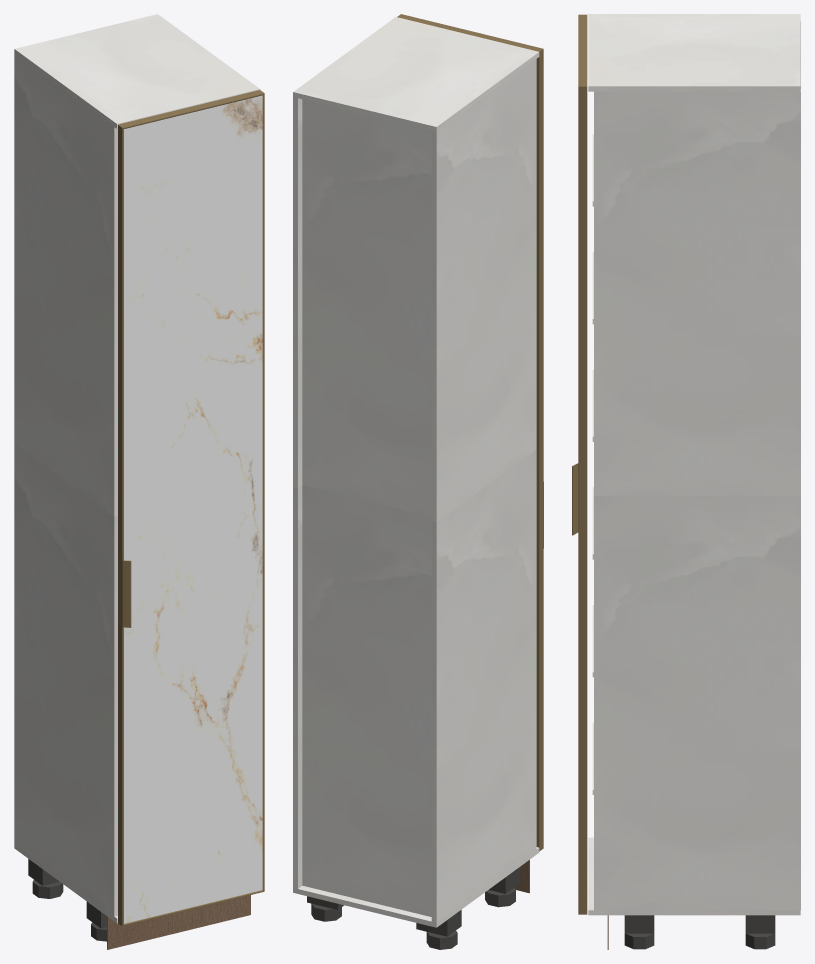
The model's file is TC-SH-TTS-ST-6SX-RHS-XXX-450-2400-560-15.glb.
The picture shows the model from 3 angles, left to right: view 1: azimuth 30°, elevation 25°; view 2: azimuth 150°, elevation 25°; view 3: azimuth 270°, elevation 25°; orthographic projection. The views are drawn at different scales.
Visible parts, largest first — view 1: Object_node_11, TP_node_0, TP, Extrusion_node_1, Object_node_13, Extrusion_node, Extrusion, ExtrSplGeo, TP_node; view 2: TP_node_8, TP_node_0, TP, TP_node_1, Extrusion_node_1, TP_node, Extrusion; view 3: TP_node_1, TP, Extrusion_node, TP_node, Extrusion, Plate_node, Plate_node_1.
Boxes of the visible parts, <box> form: Object_node_11: <box>124,95,262,923</box>; TP_node_0: <box>14,54,117,916</box>; TP: <box>14,14,260,128</box>; Extrusion_node_1: <box>118,125,123,926</box>; Object_node_13: <box>107,895,250,949</box>; Extrusion_node: <box>262,93,264,891</box>; Extrusion: <box>118,90,264,128</box>; ExtrSplGeo: <box>118,557,131,627</box>; TP_node: <box>14,843,117,923</box>; TP_node_8: <box>302,99,431,916</box>; TP_node_0: <box>431,59,536,922</box>; TP: <box>293,17,539,131</box>; TP_node_1: <box>293,97,302,888</box>; Extrusion_node_1: <box>536,49,543,851</box>; TP_node: <box>293,847,539,927</box>; Extrusion: <box>397,14,543,51</box>; TP_node_1: <box>594,89,800,910</box>; TP: <box>588,14,800,91</box>; Extrusion_node: <box>578,86,587,914</box>; TP_node: <box>588,837,800,915</box>; Extrusion: <box>578,14,587,86</box>; Plate_node: <box>745,915,775,933</box>; Plate_node_1: <box>624,915,654,933</box>.
Size of what is drawn, in the model's own units: 0.45 by 2.5 by 0.6.
7 materials, 3 textured.
